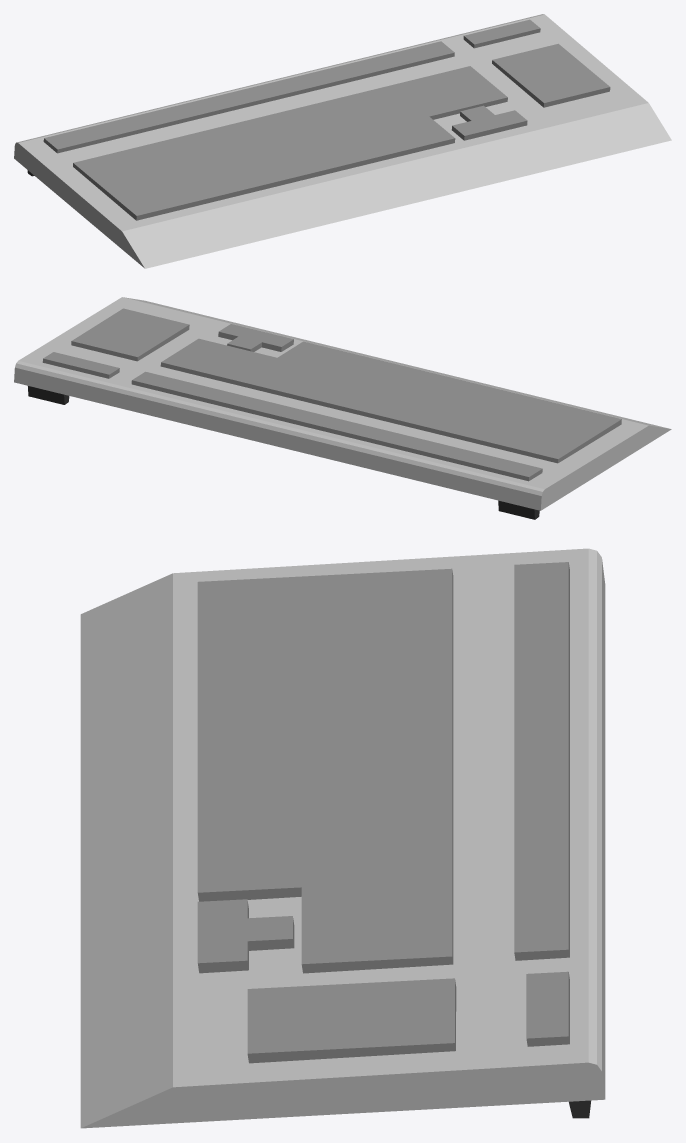
Rendered from PC_Keyboard_1.obj.
3 views of the same model, one above another, from view 1: azimuth 30°, elevation 25°; view 2: azimuth 150°, elevation 25°; view 3: azimuth 270°, elevation 25° (orthographic). The views are drawn at different scales.
Visible parts, largest first — view 1: PC_Keyboard_1; view 2: PC_Keyboard_1; view 3: PC_Keyboard_1.
Part boxes in pixels (<box>): PC_Keyboard_1: <box>14,14,671,268</box>; PC_Keyboard_1: <box>14,297,671,519</box>; PC_Keyboard_1: <box>80,548,605,1128</box>.
Bounding box in the file's own units: 0.4622 × 0.0305 × 0.1994.
